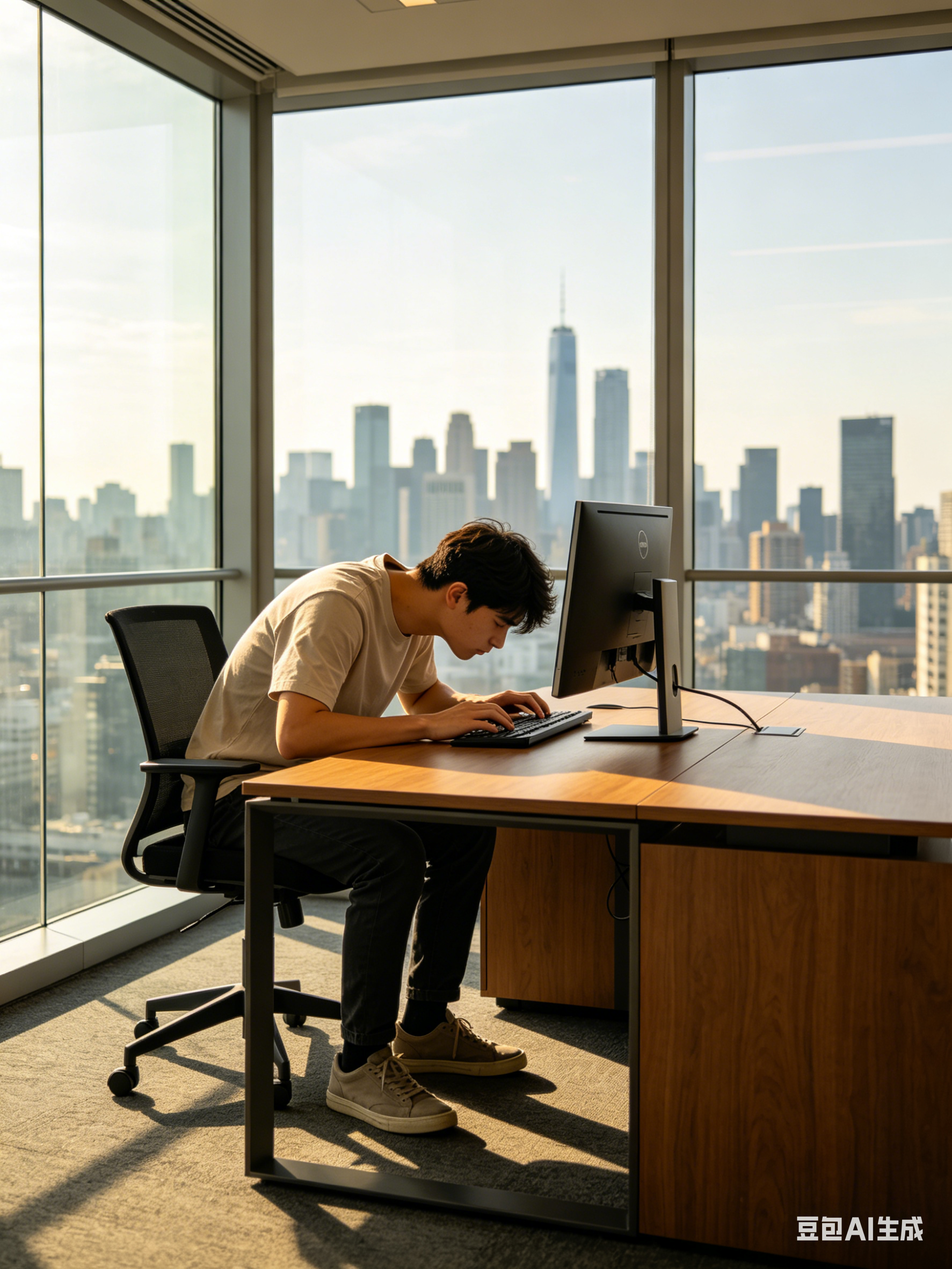sitting_bad: (174, 518, 566, 1087)
